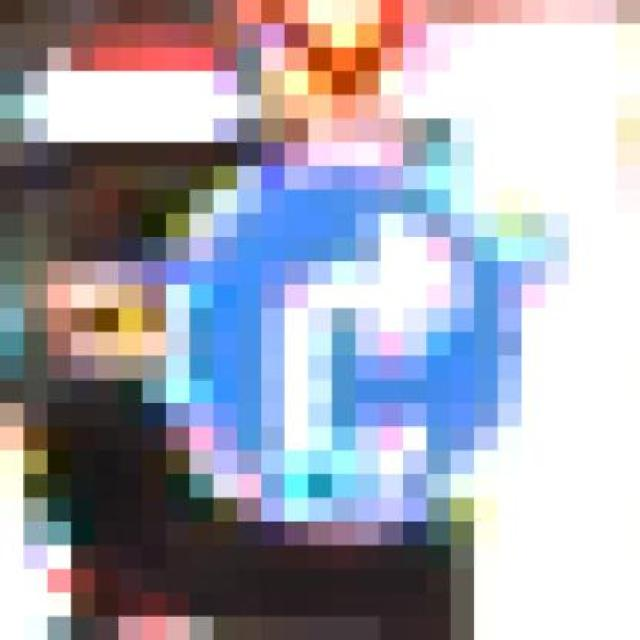Turn right ahead: (118, 166, 570, 545)
